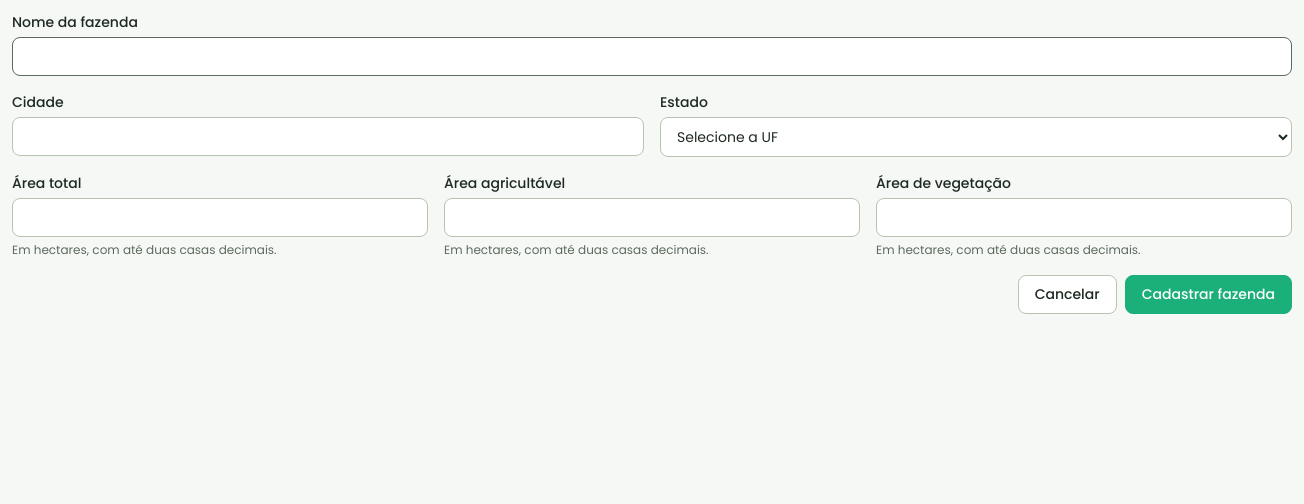
it: PropertyForm › refuses an over-allocated farm without submitting
In the field labelled "Nome da fazenda": (652, 56) [12, 37, 1292, 76], type "Fazenda X"
In the field labelled "Cidade": (328, 136) [12, 117, 644, 156], type "Uberaba"
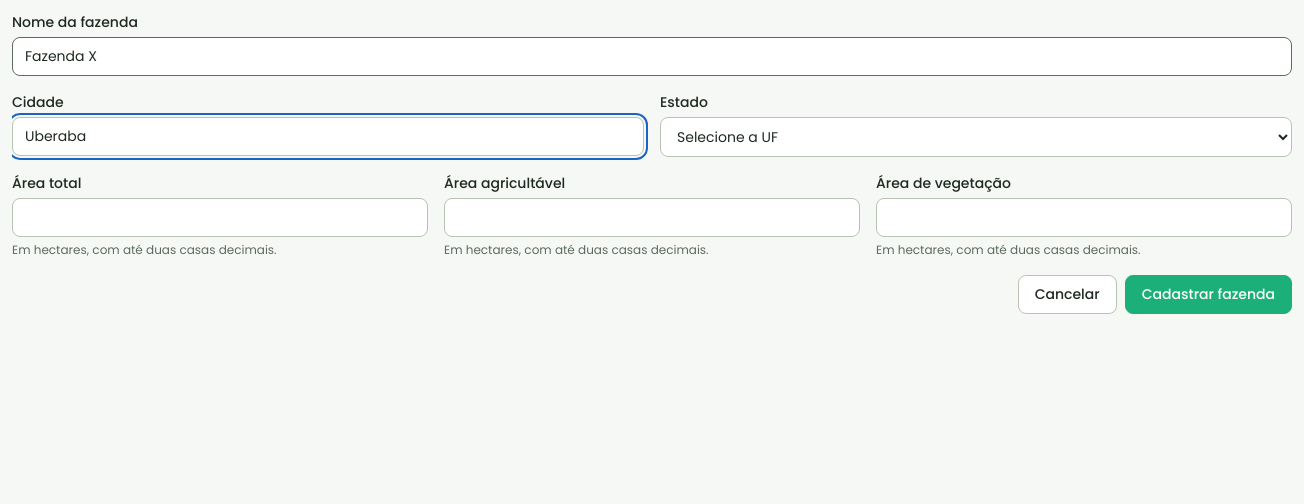
Select "MG" in the dropdown labelled "Estado": (976, 137) [660, 117, 1292, 157]
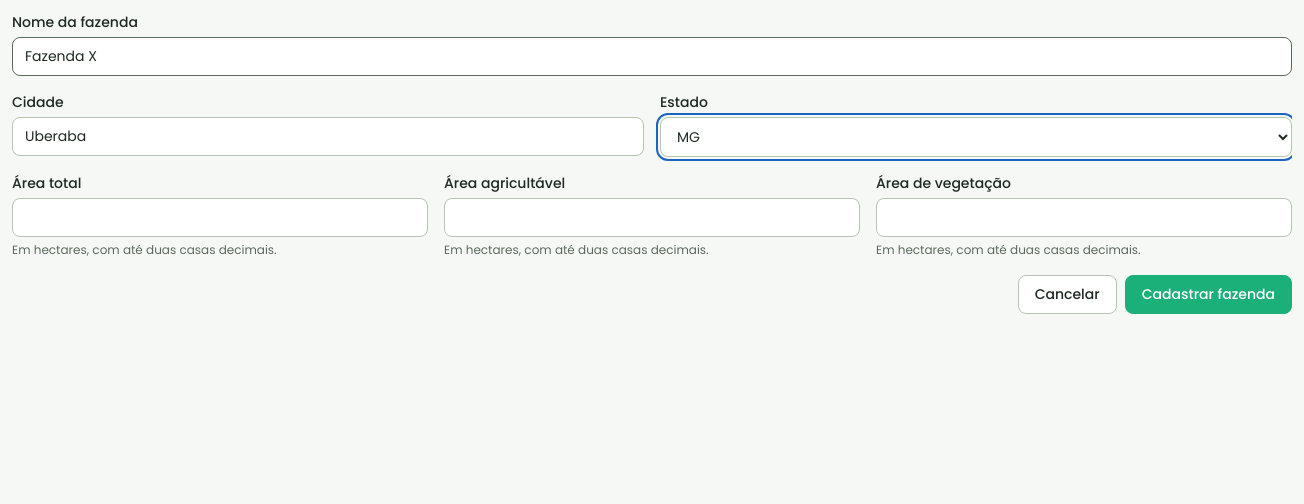
In the field labelled "Área total": (220, 218) [12, 198, 428, 237], type "100"
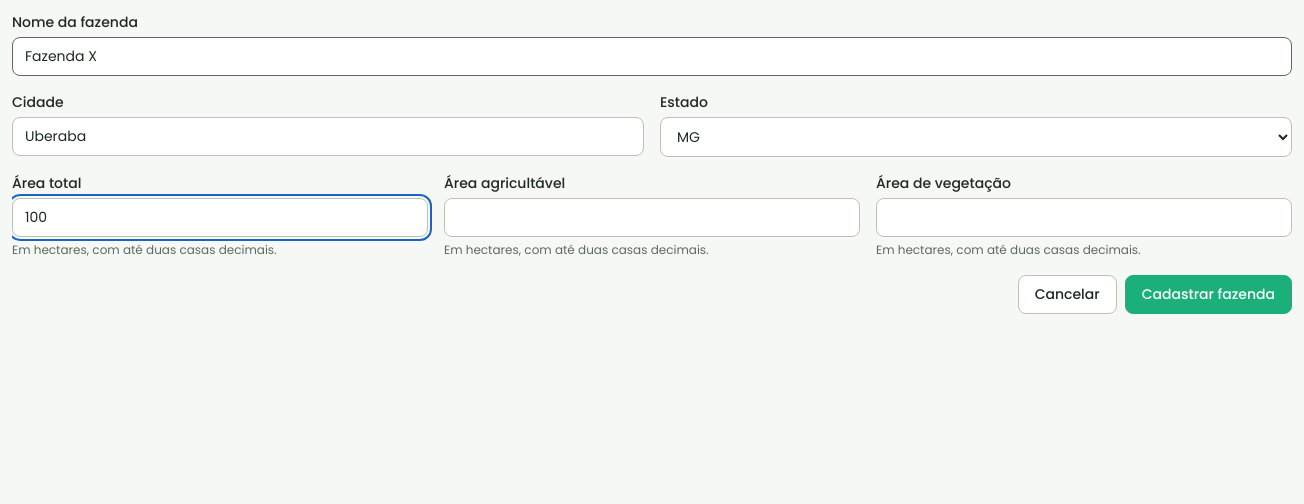
In the field labelled "Área agricultável": (652, 218) [444, 198, 860, 237], type "60"
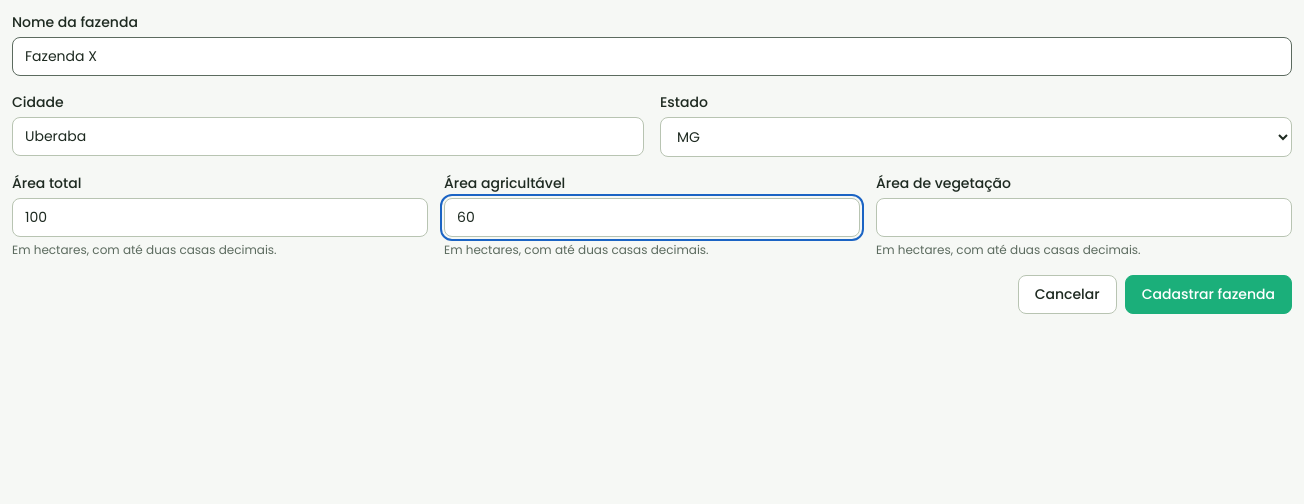
In the field labelled "Área de vegetação": (1084, 218) [876, 198, 1292, 237], type "50"
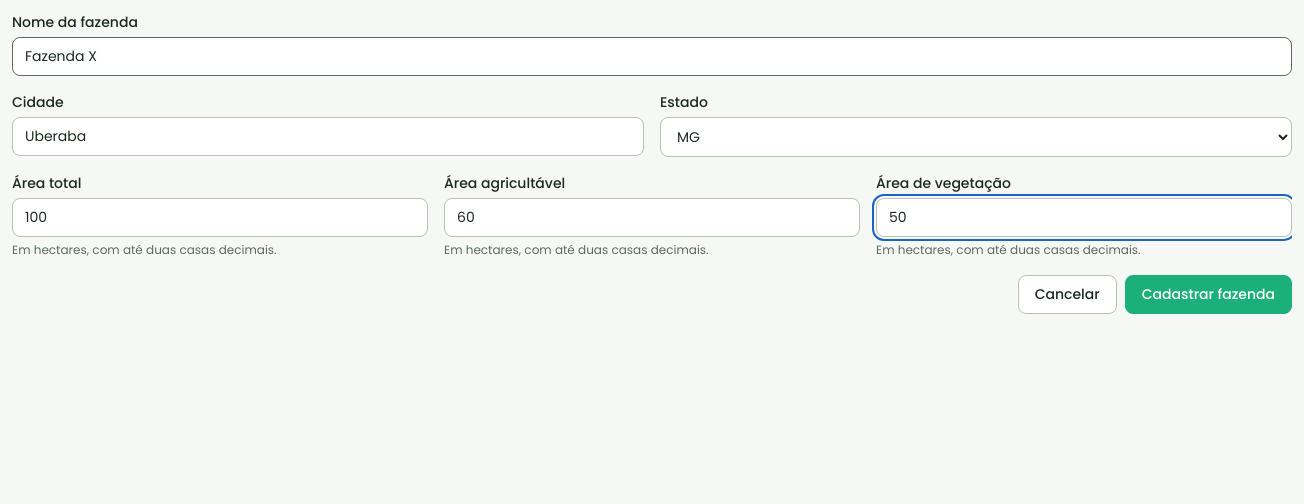
Click the button "Cadastrar fazenda": (1208, 294) [1125, 275, 1292, 314]
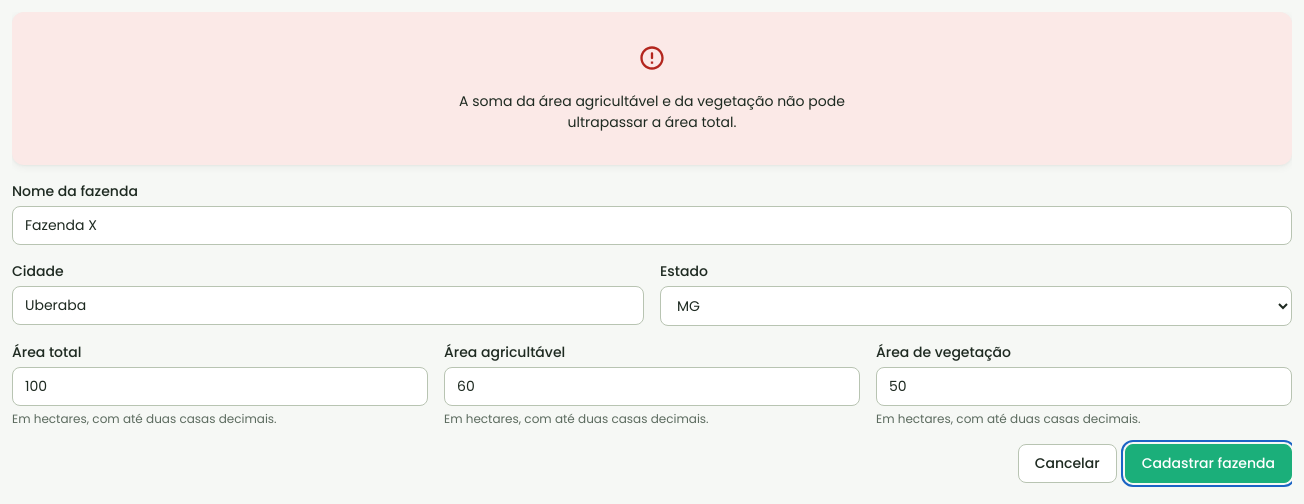
Check: the message reads "A soma da área agricultável e da vegetação não pode ultrapassar a área total.", box [459, 91, 845, 132]
